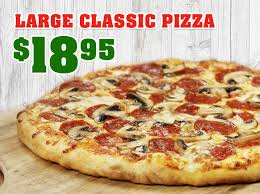pizza: (18, 66, 260, 183)
